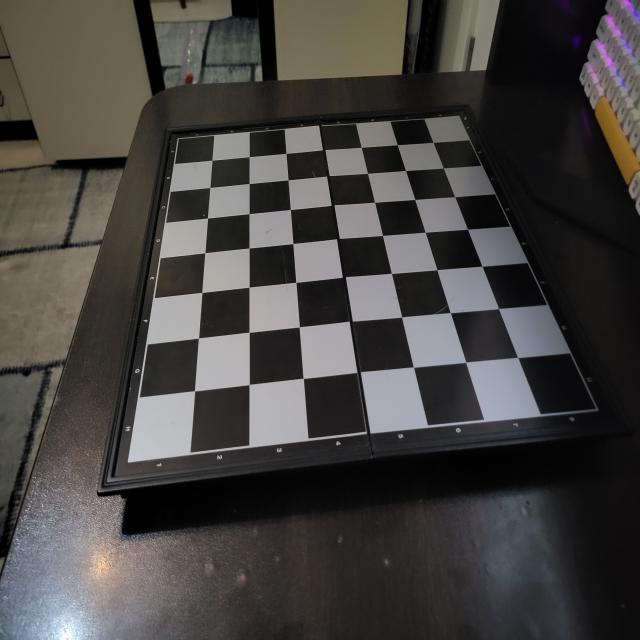chess-board: (121, 110, 602, 484)
